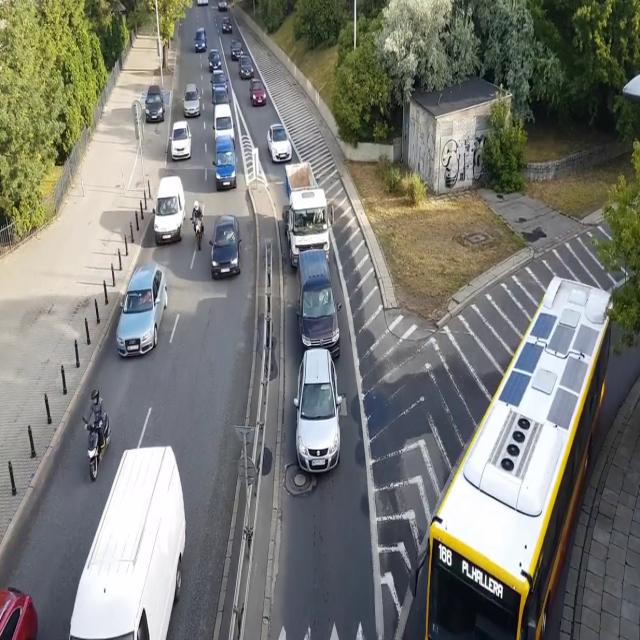bus: (424, 273, 613, 640)
car: (292, 348, 342, 476), (116, 262, 168, 360), (0, 583, 40, 640), (210, 214, 242, 280), (168, 120, 193, 163), (267, 125, 293, 165), (144, 83, 165, 125), (180, 83, 202, 119), (250, 76, 266, 109), (237, 56, 255, 80), (206, 48, 224, 70), (210, 72, 230, 90), (211, 89, 232, 106), (229, 38, 244, 58), (221, 15, 232, 32), (217, 0, 229, 12)
motorcycle: (80, 388, 112, 481), (189, 200, 207, 252)
truck: (283, 162, 336, 267)
van: (66, 445, 187, 640), (297, 247, 342, 365), (152, 175, 186, 248), (212, 136, 238, 193), (212, 104, 236, 148), (194, 28, 207, 51)
